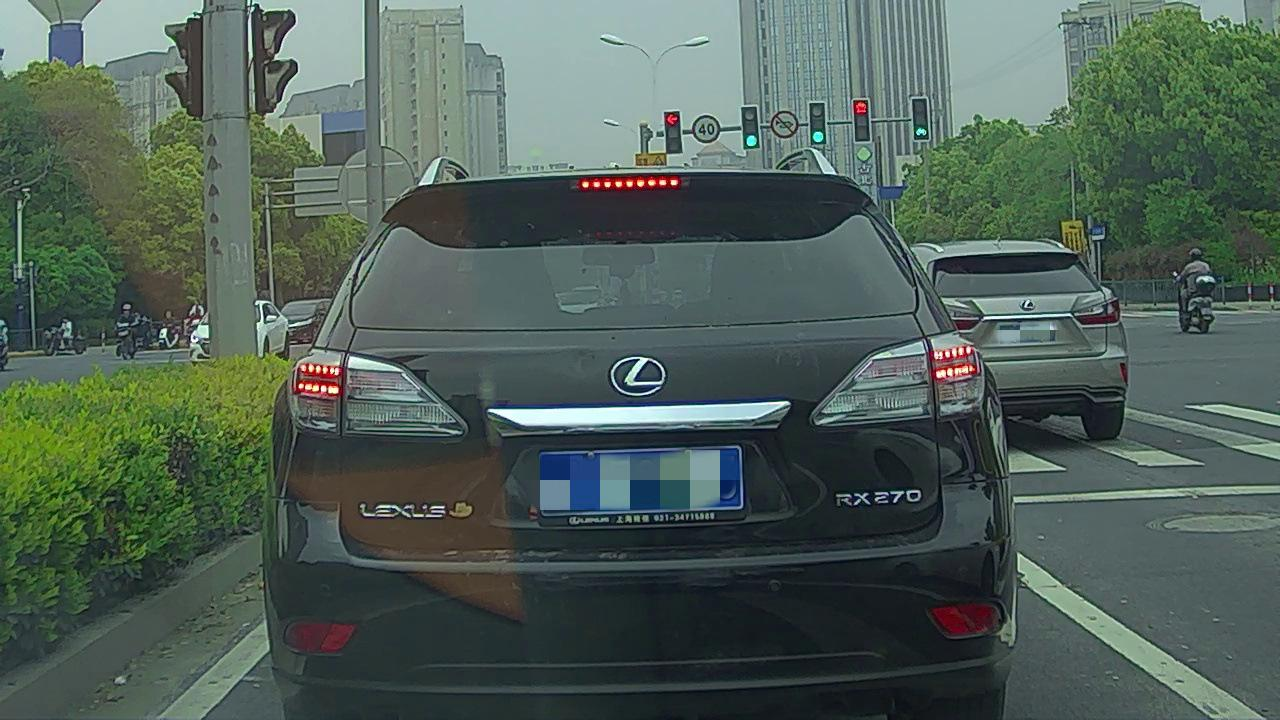traffic_light: (663, 112, 682, 153), (912, 97, 929, 141), (741, 107, 759, 148), (853, 100, 869, 141), (810, 102, 824, 144)
